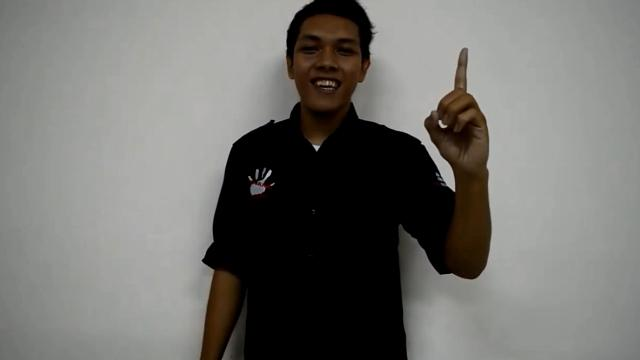D: (422, 46, 491, 172)
